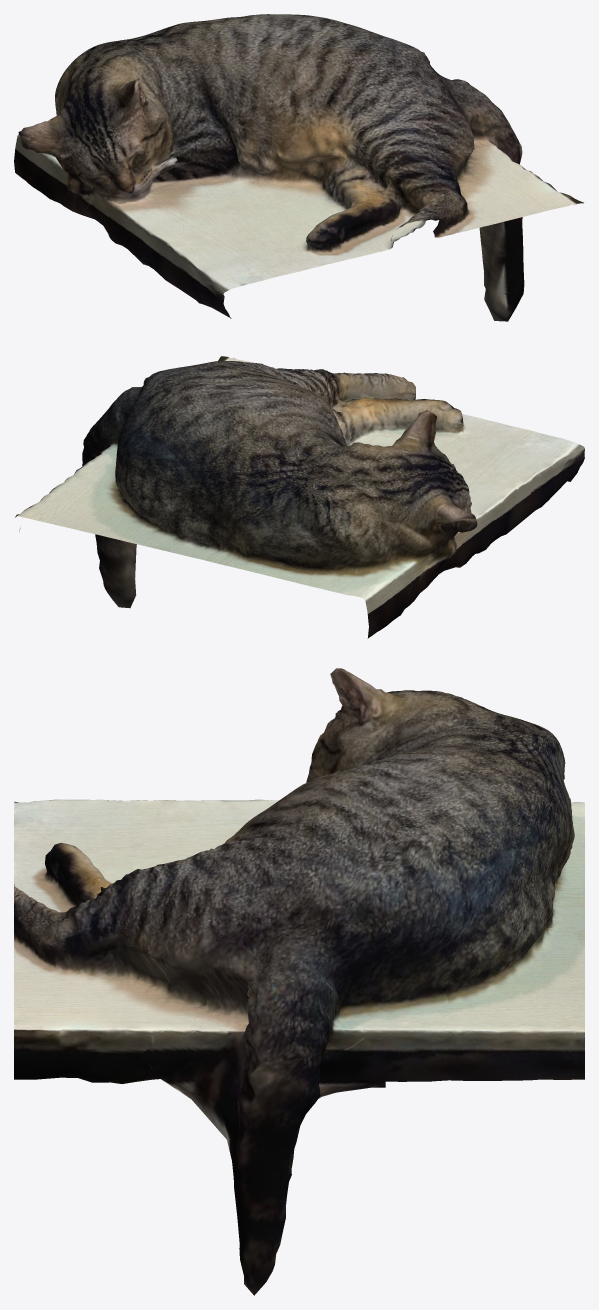
The model's file is sleeping_cat.gltf.
3 renders of one model, top to bottom at view 1: azimuth 30°, elevation 25°; view 2: azimuth 150°, elevation 25°; view 3: azimuth 270°, elevation 25°, orthographic. The views are drawn at different scales.
Visible parts, largest first — view 1: marg 2_0; view 2: marg 2_0; view 3: marg 2_0.
Boxes of the visible parts, bbox=[...] form: marg 2_0: bbox=[14, 14, 583, 321]; marg 2_0: bbox=[15, 356, 584, 638]; marg 2_0: bbox=[14, 668, 584, 1295].
Size of the model in its own units: 0.525 by 0.3434 by 0.4384.
Materials: 1 (1 with a texture image).
